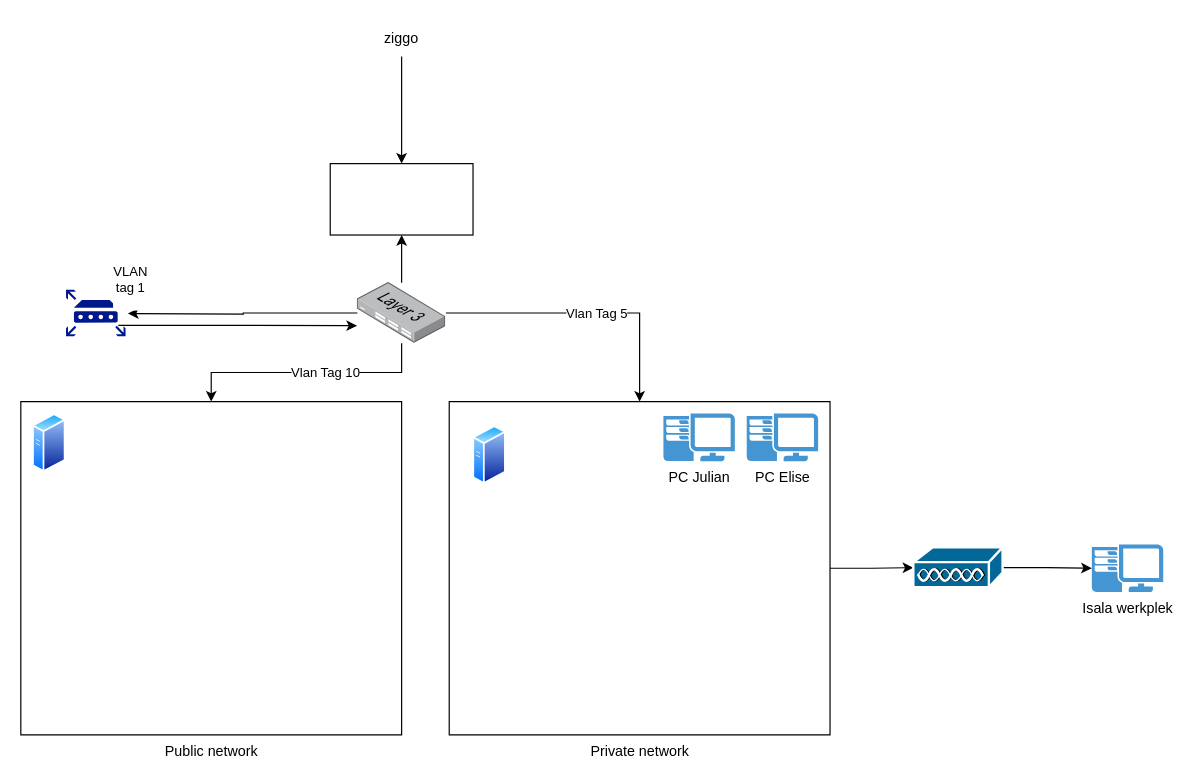
Some shapes in this 1194 by 779 pixel diagram are drawn without their labels. The shapes that lost their labels are listed below. From the top down, each one's centre as x and y in pixels, then its label:
the point at 401,198: Ziggo modem
the point at 95,312: Opnsense
the point at 957,567: AP Aruba Isala
